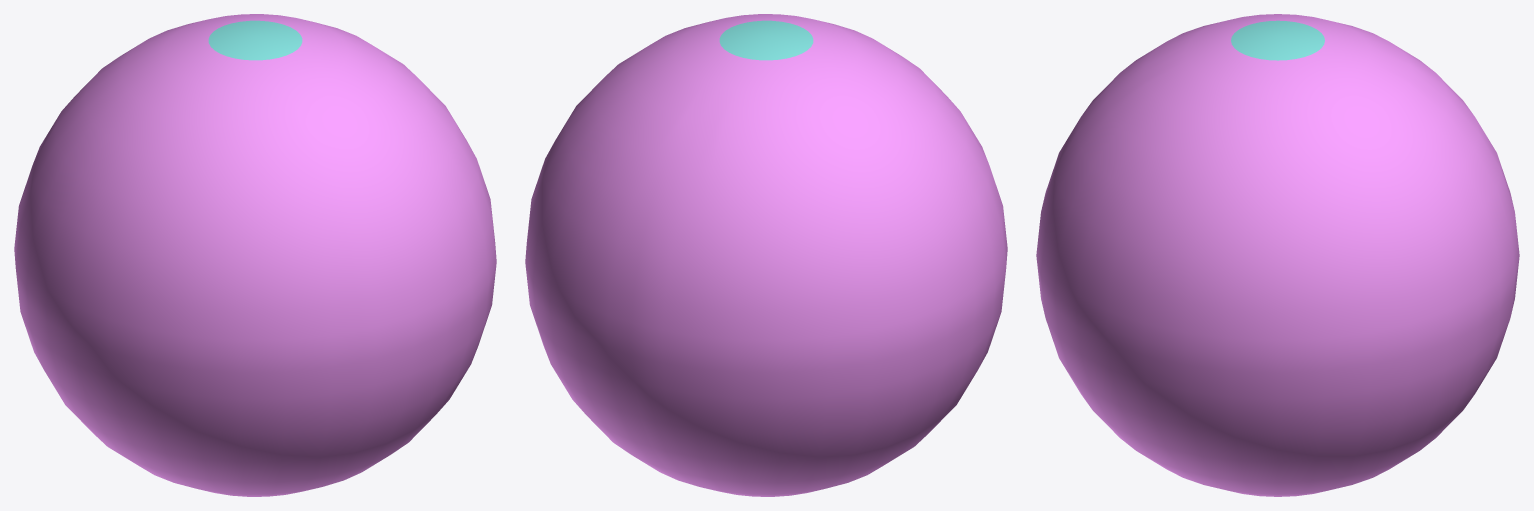
Rendered from GravityPlanet.fbx.
3 renders of one model, left to right at view 1: azimuth 30°, elevation 25°; view 2: azimuth 150°, elevation 25°; view 3: azimuth 270°, elevation 25°, orthographic.
Visible parts, largest first — view 1: Planet; view 2: Planet; view 3: Planet.
Boxes of the visible parts, x1,y1,x2,y2 form: Planet: (14, 14, 496, 496); Planet: (525, 14, 1007, 496); Planet: (1036, 14, 1519, 496).
Size of the model in its own units: 40 by 40 by 40.
